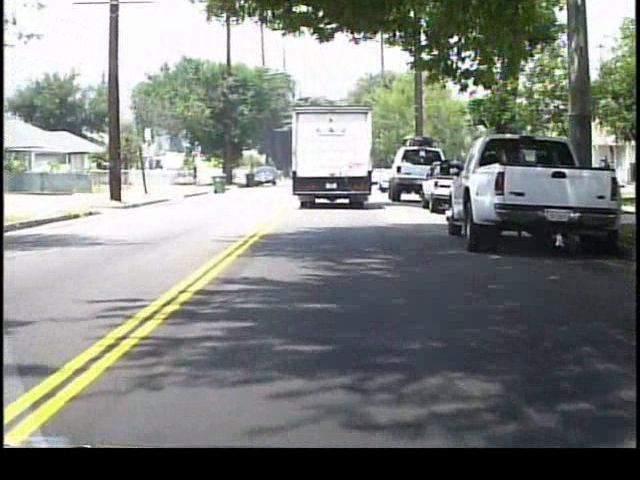person: (593, 156, 606, 200), (599, 155, 610, 203), (192, 163, 201, 186)
